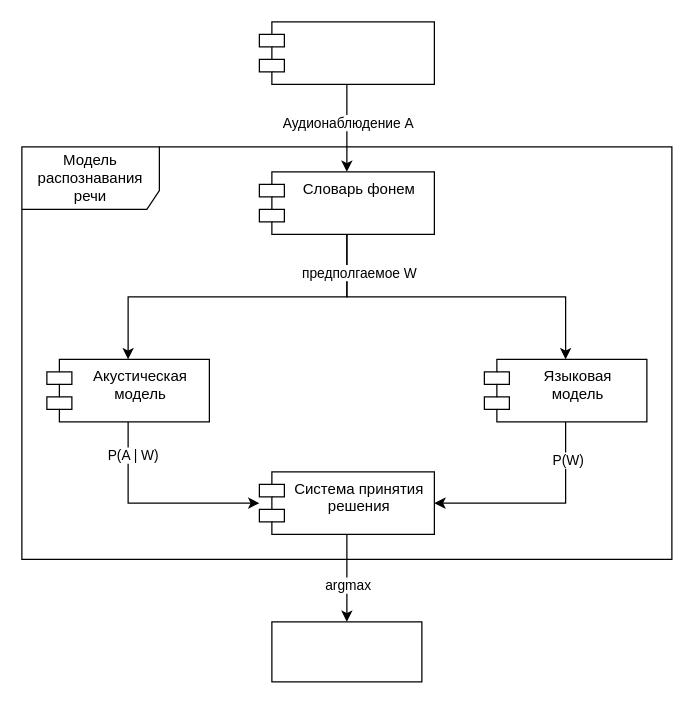
Image size: 694x704. Some labels were removed from this diagram. Each missing label, with the box of its shape:
Распознаватель аудио сигналов: (258, 21, 434, 84)
Распознанный текст (W): (271, 621, 422, 682)
